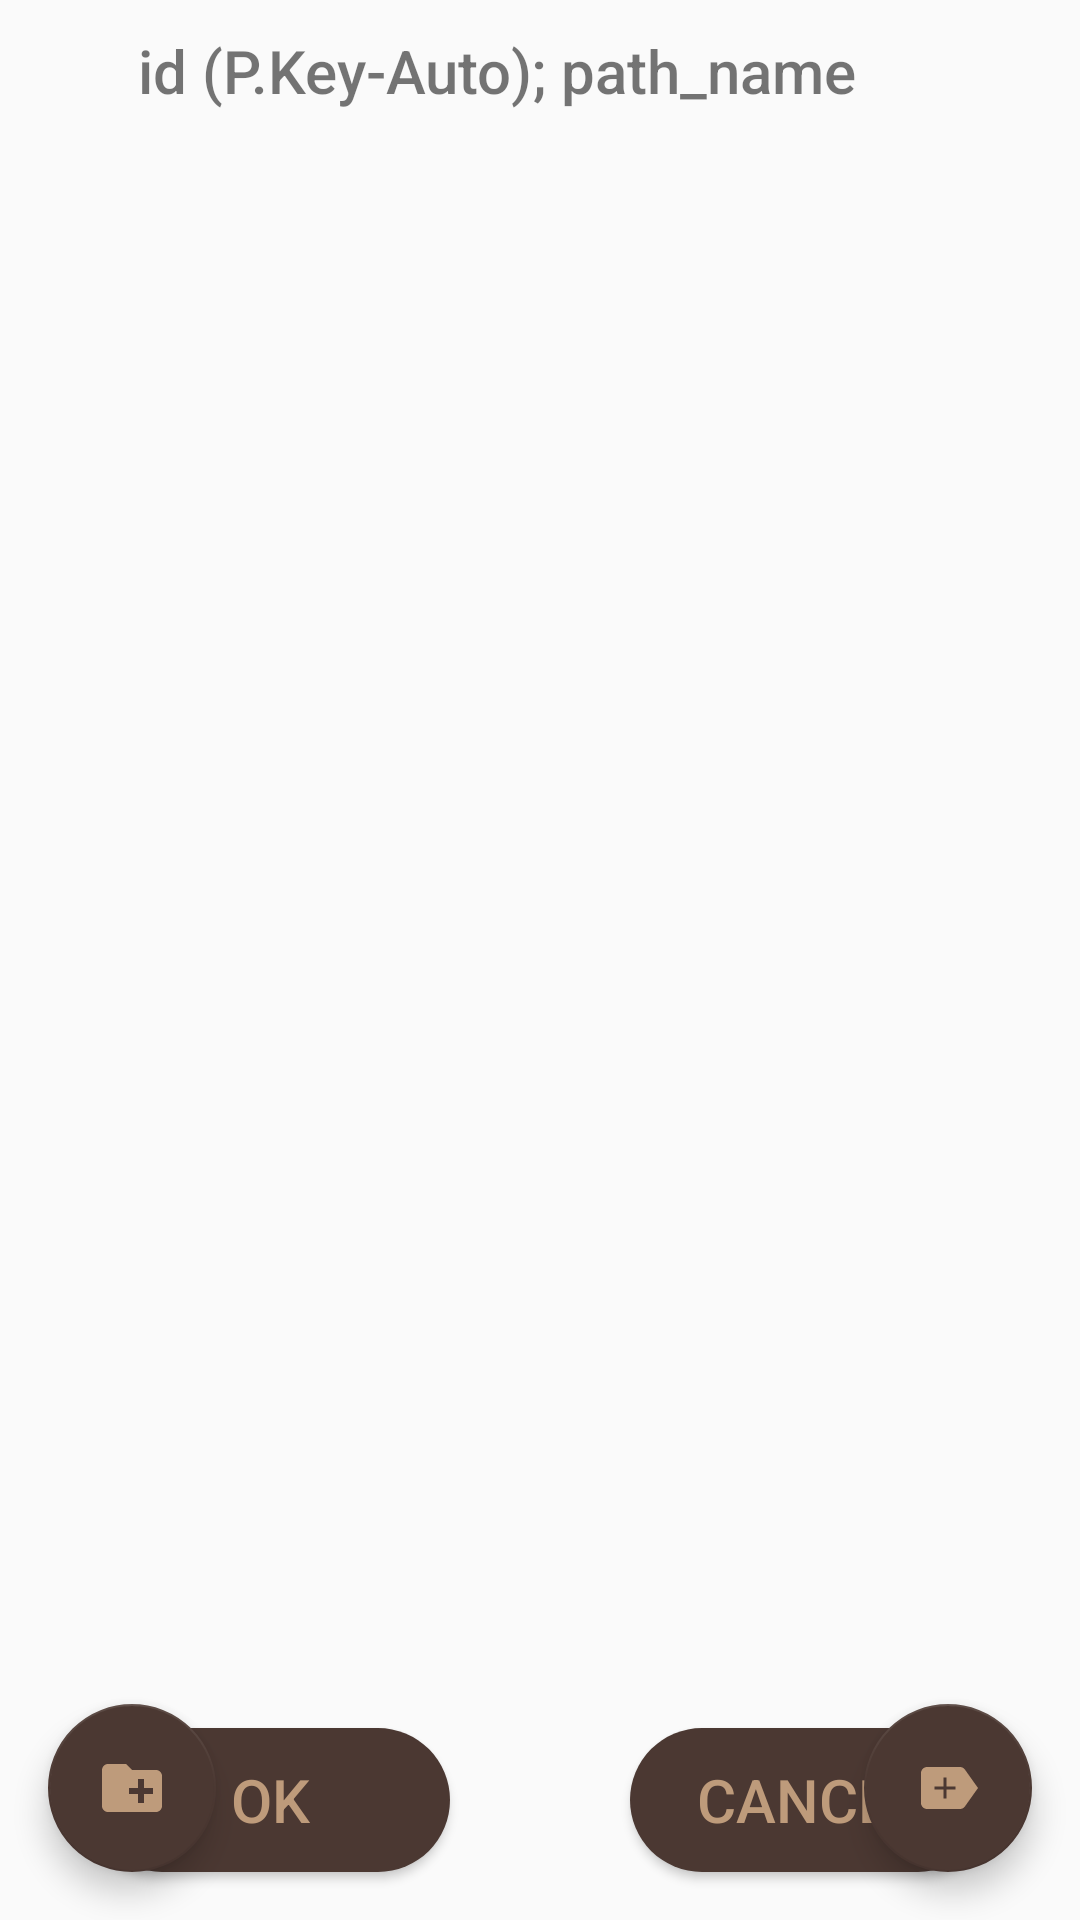

Screen size 1080x1920. Icon name, then its center in pixels as (x,y):
DB Folder Plus: (132,1788)
DB Tag Plus: (948,1788)
